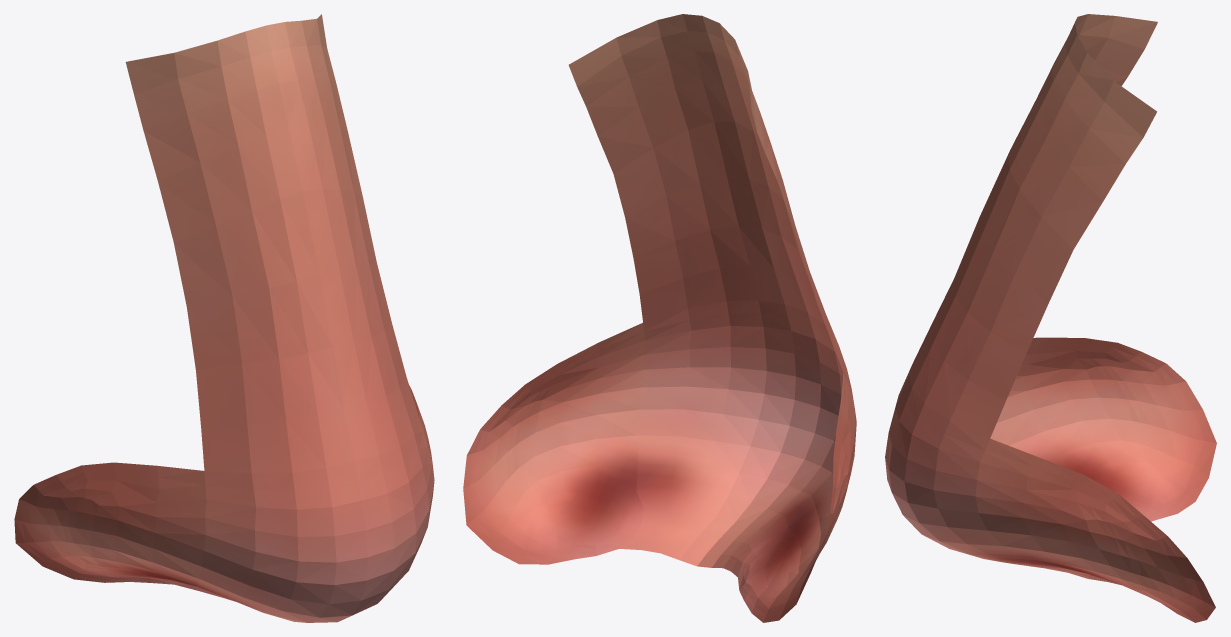
File: euro-fem-nose-sellion-deep.obj
The picture shows the model from 3 angles, left to right: view 1: azimuth 30°, elevation 25°; view 2: azimuth 150°, elevation 25°; view 3: azimuth 270°, elevation 25°; orthographic projection. The views are drawn at different scales.
Parts seen in each view (by area): view 1: euro-fem-nose-sellion.001; view 2: euro-fem-nose-sellion.001; view 3: euro-fem-nose-sellion.001.
Part boxes in pixels (left/top/right/bottom): euro-fem-nose-sellion.001: left=14, top=14, right=434, bottom=622; euro-fem-nose-sellion.001: left=463, top=14, right=856, bottom=622; euro-fem-nose-sellion.001: left=885, top=14, right=1216, bottom=622.
Bounding box in the file's own units: 0.1622 × 0.2378 × 0.1299.
Materials: 1 (1 with a texture image).
